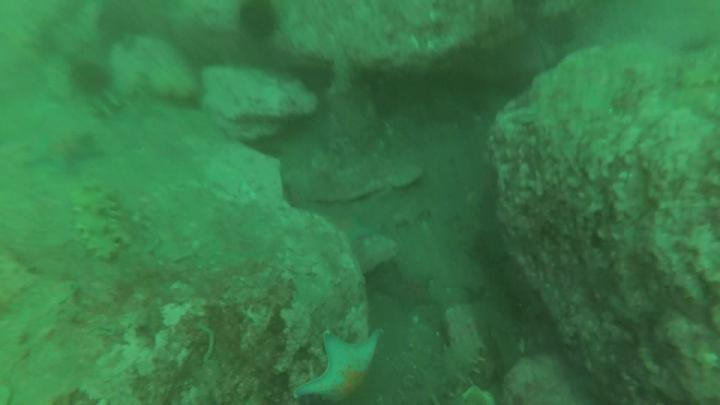echinus: (236, 1, 286, 48), (470, 226, 515, 275), (97, 1, 143, 46), (67, 57, 116, 97)
holothurian: (392, 331, 488, 405), (65, 179, 128, 269), (88, 72, 155, 123), (672, 47, 720, 92)
starfish: (289, 328, 386, 405)
